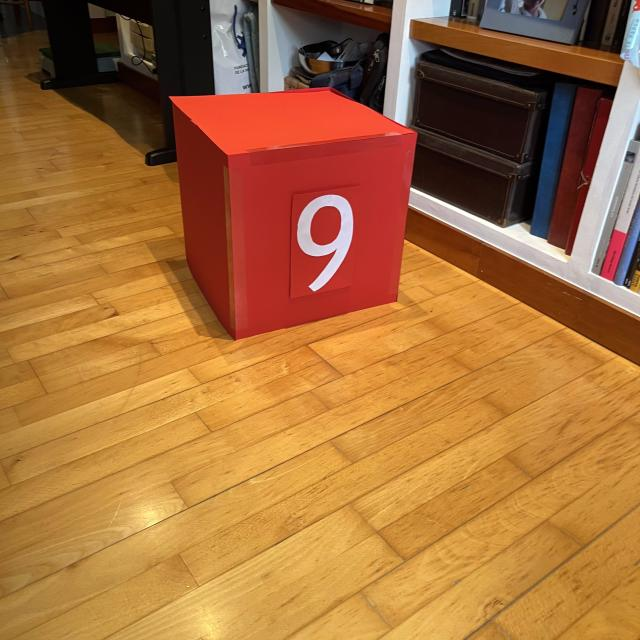box: (167, 85, 419, 341)
